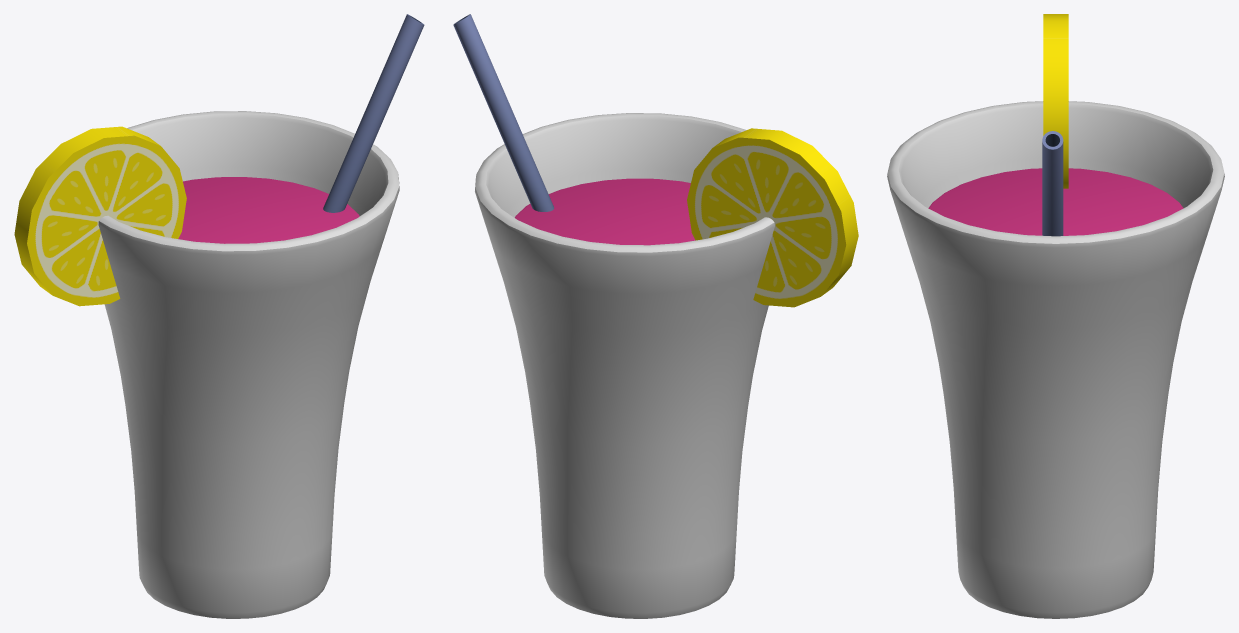
File: Cocktail.fbx
The picture shows the model from 3 angles, left to right: view 1: azimuth 30°, elevation 25°; view 2: azimuth 150°, elevation 25°; view 3: azimuth 270°, elevation 25°; orthographic projection. The views are drawn at different scales.
Visible parts, largest first — view 1: Cocktail; view 2: Cocktail; view 3: Cocktail.
Part boxes in pixels (<box>): Cocktail: <box>14,14,424,618</box>; Cocktail: <box>453,14,858,618</box>; Cocktail: <box>887,14,1224,618</box>.
Size of the model in its own units: 15.2 by 19.09 by 10.88.
